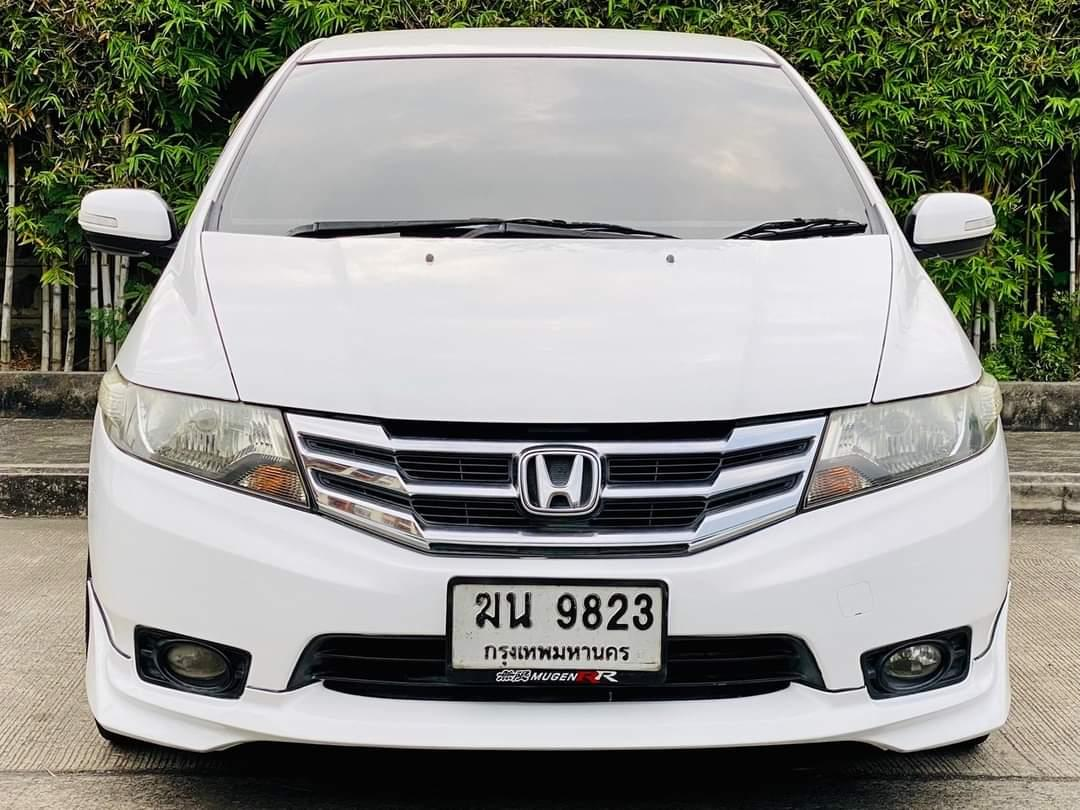license-plate: (447, 572, 672, 682)
